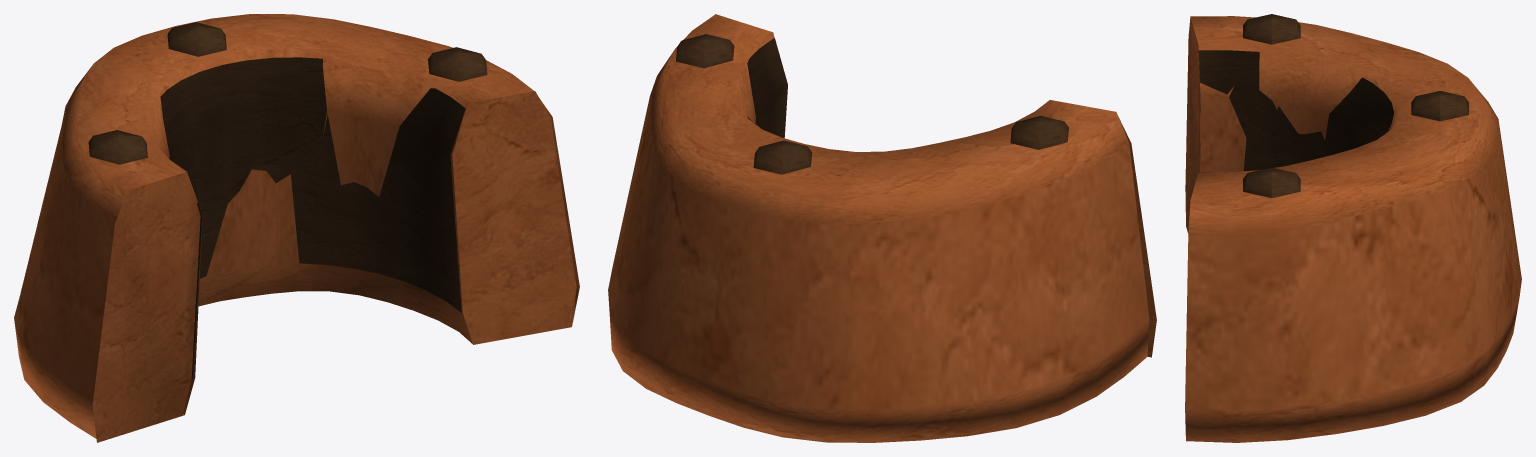
Rendered from prop_chula_lod1.glb.
3 views of the same model, side by side, from view 1: azimuth 30°, elevation 25°; view 2: azimuth 150°, elevation 25°; view 3: azimuth 270°, elevation 25° (orthographic). The views are drawn at different scales.
Visible parts, largest first — view 1: prop_chula; view 2: prop_chula; view 3: prop_chula.
Part boxes in pixels (left/top/right/bottom): prop_chula: left=14, top=14, right=579, bottom=442; prop_chula: left=608, top=14, right=1156, bottom=442; prop_chula: left=1185, top=14, right=1521, bottom=442.
Size of the model in its own units: 0.5 by 0.25 by 0.32.
Materials: 2 (2 with a texture image).
